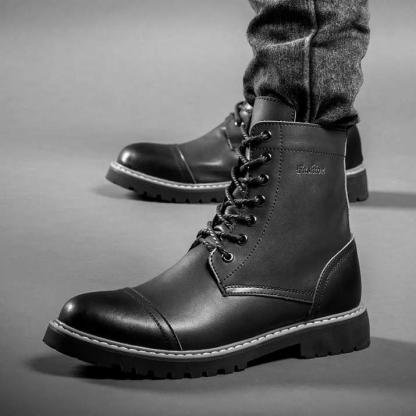ankle: (279, 231, 294, 245), (297, 134, 310, 145)
heel: (354, 184, 362, 195), (353, 335, 363, 342)
left_foot: (43, 210, 372, 381)
pinky: (117, 327, 125, 337), (135, 146, 141, 152)
right_foot: (106, 110, 370, 204)
toe: (71, 304, 82, 312), (135, 163, 146, 170)
